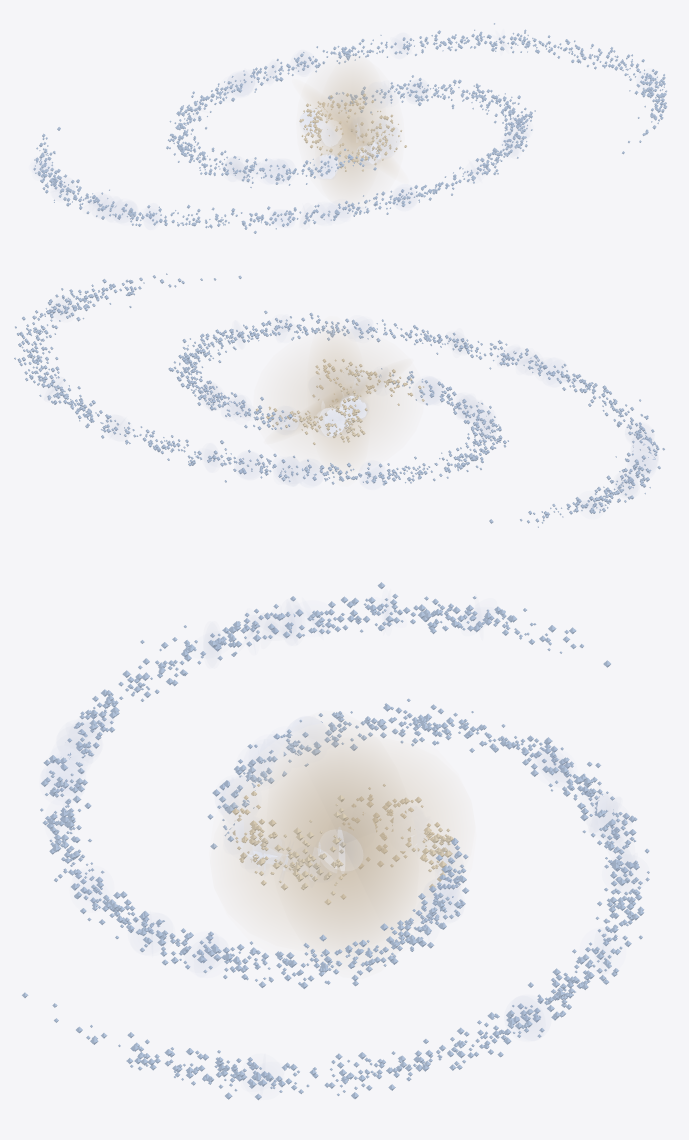
3 views of the same model, one above another, from view 1: azimuth 30°, elevation 25°; view 2: azimuth 150°, elevation 25°; view 3: azimuth 270°, elevation 25° (orthographic). The views are drawn at different scales.
Bounding box in the file's own units: 7.29 × 1.78 × 4.02.
